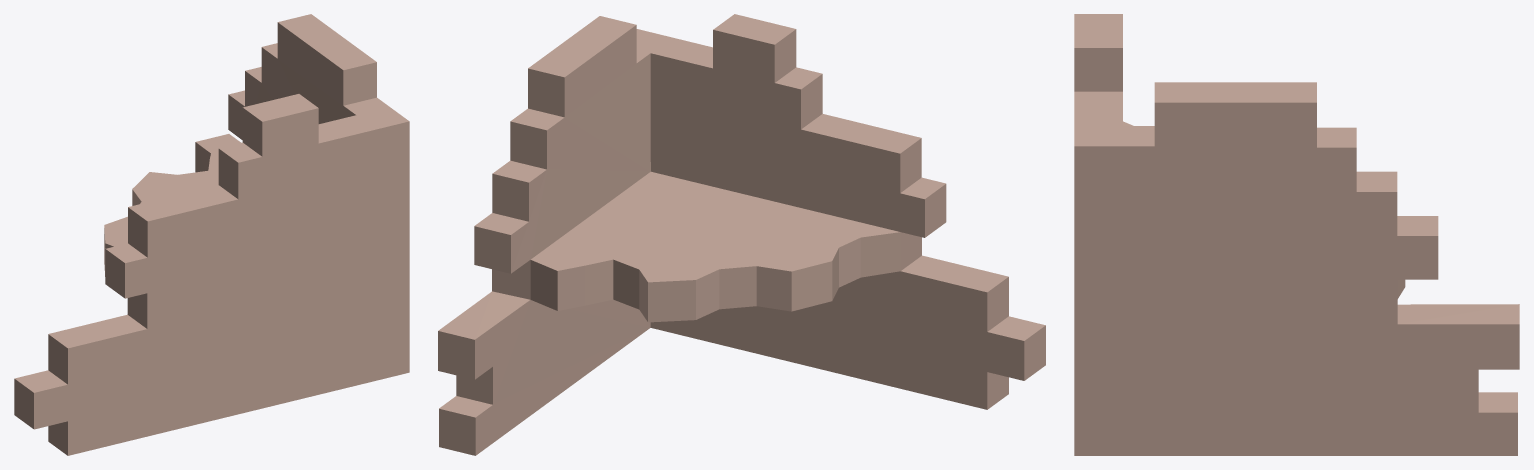
Rendered from sciana_1.obj.
The picture shows the model from 3 angles, left to right: view 1: azimuth 30°, elevation 25°; view 2: azimuth 150°, elevation 25°; view 3: azimuth 270°, elevation 25°; orthographic projection. The views are drawn at different scales.
Visible parts, largest first — view 1: lowpoly1.001; view 2: lowpoly1.001; view 3: lowpoly1.001.
Part boxes in pixels (x1,y1,x2,y2): lowpoly1.001: (14,14,409,455); lowpoly1.001: (438,14,1045,455); lowpoly1.001: (1074,14,1519,455).
Size of the model in its own units: 11.64 by 8.49 by 9.69.
